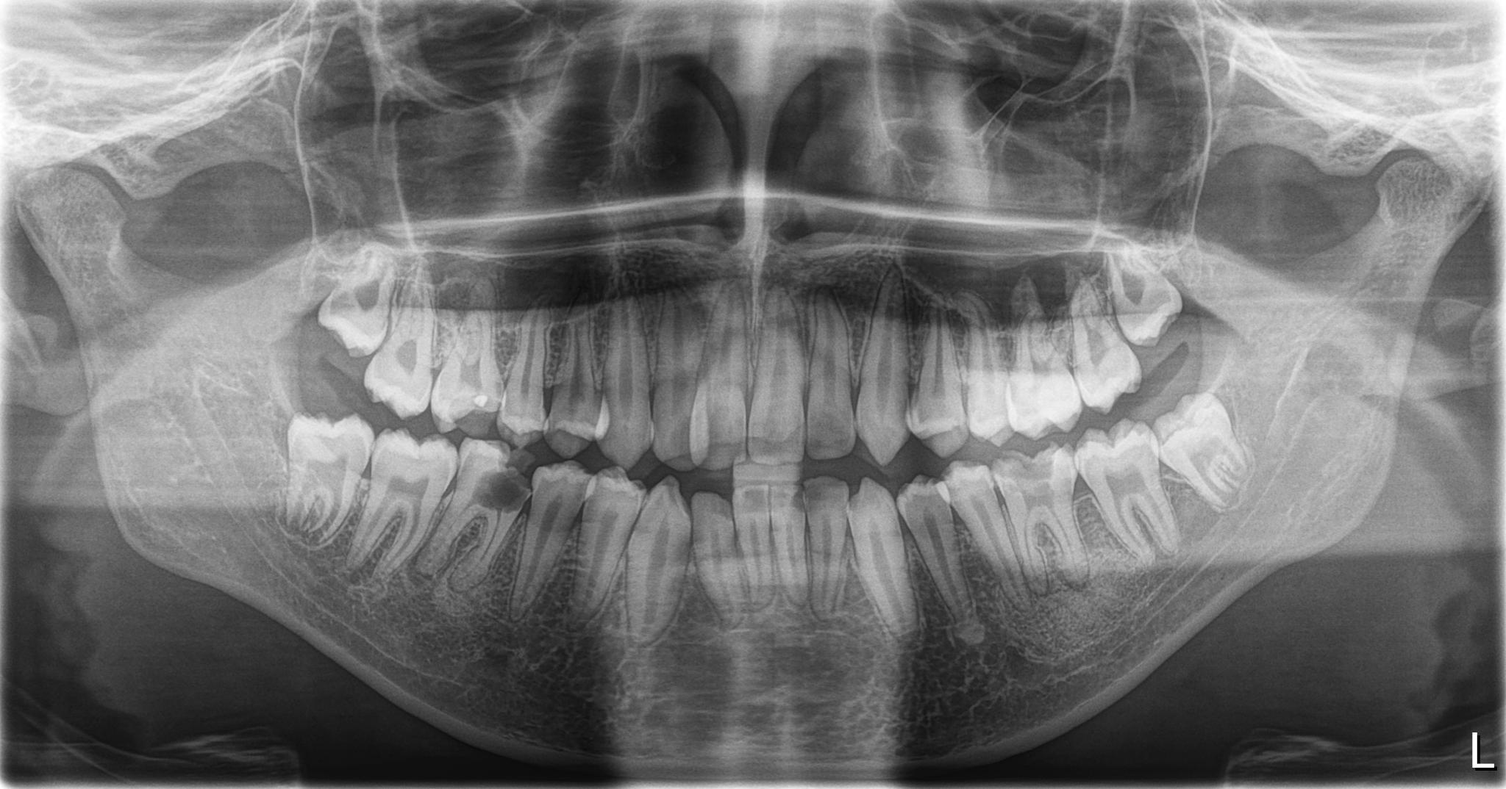Dental Caries: (478, 465, 530, 513)
Impacted Third Molar: (313, 261, 390, 356), (1107, 253, 1196, 334)
